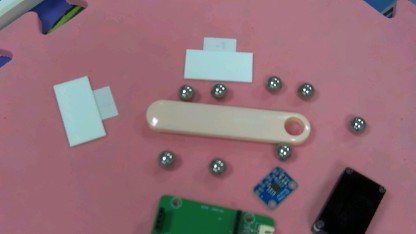ironball: (150, 145, 180, 168), (345, 111, 366, 136), (263, 71, 283, 95), (176, 81, 195, 105), (210, 81, 228, 100), (297, 80, 314, 100), (209, 156, 224, 177), (273, 141, 289, 160)
